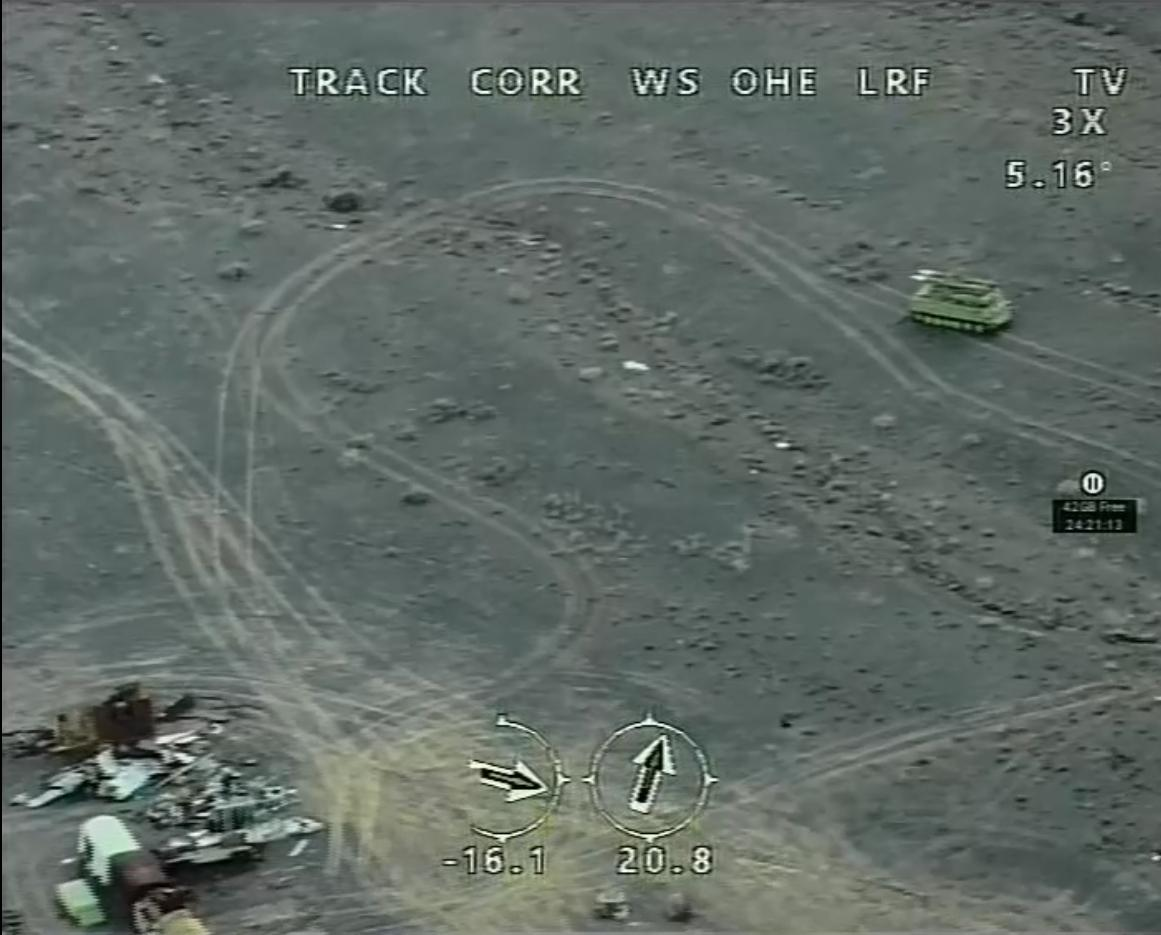armored_car: (904, 256, 1022, 342)
